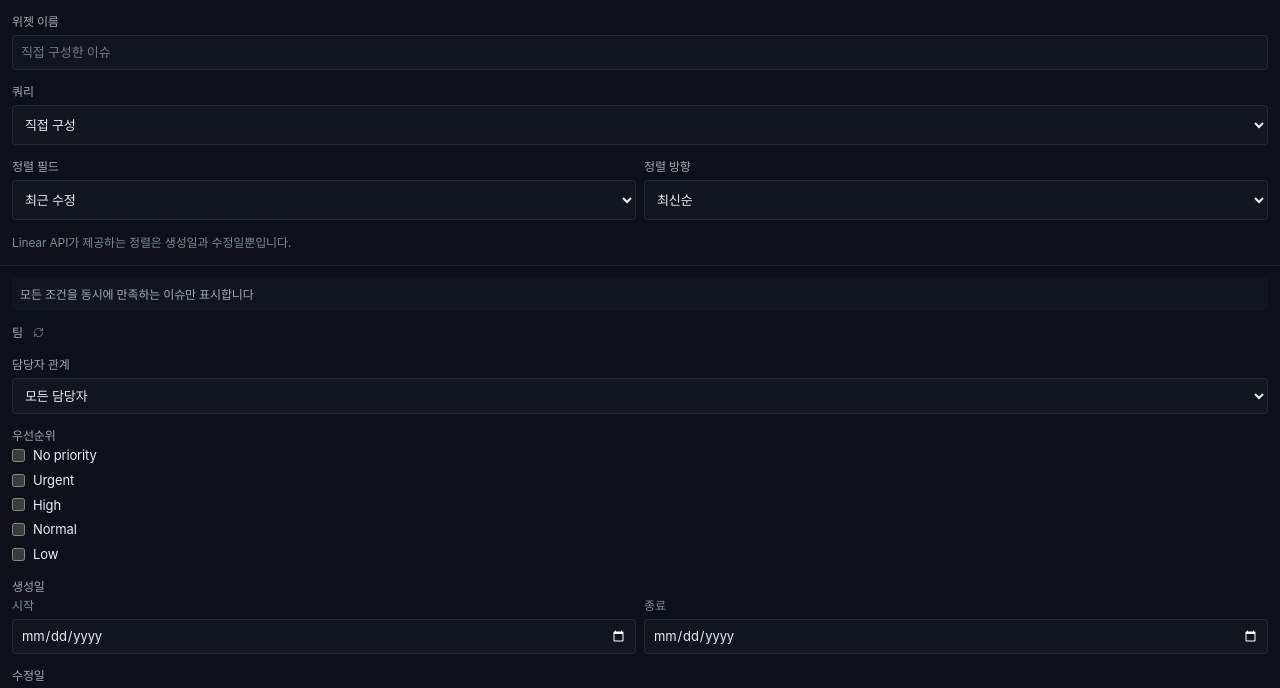
LinearConfigForm › keeps explicit metadata after an initial cache response arrives late
Click the button named "전역 메타데이터 새로고침". click: (38, 333)
box: [31,326,46,340]
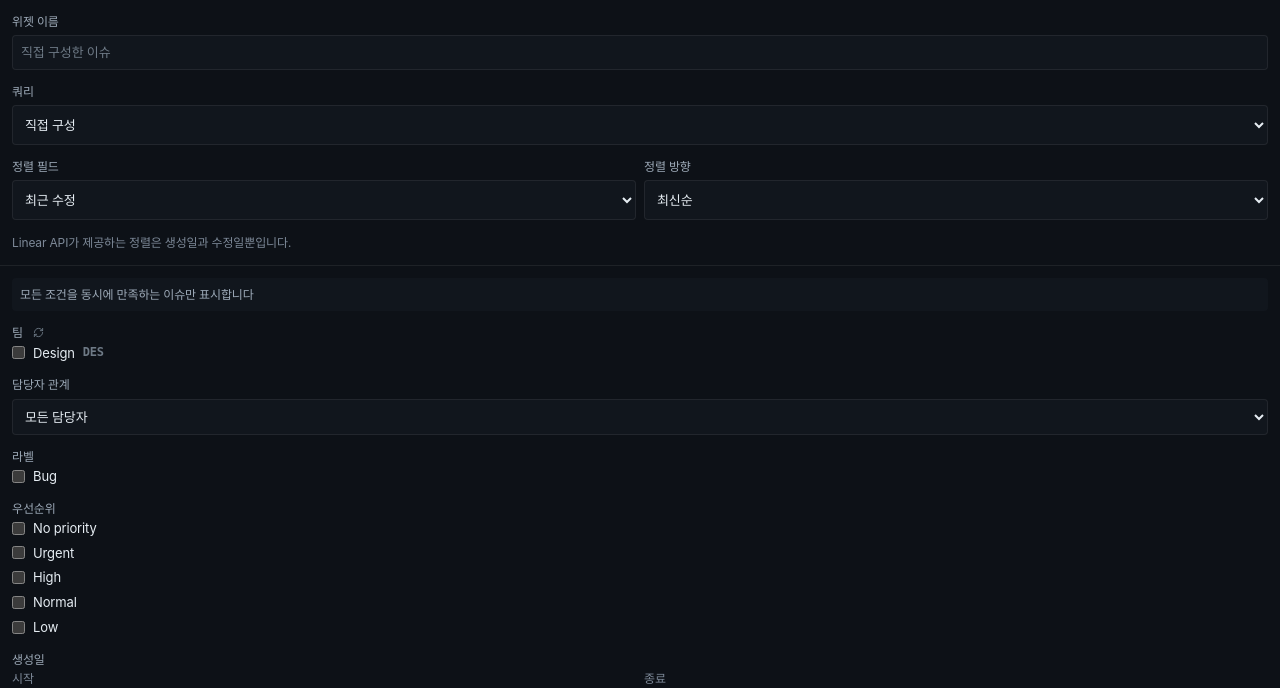
expect the checkbox labelled "Design" is shown: met, box [12,346,25,359]
